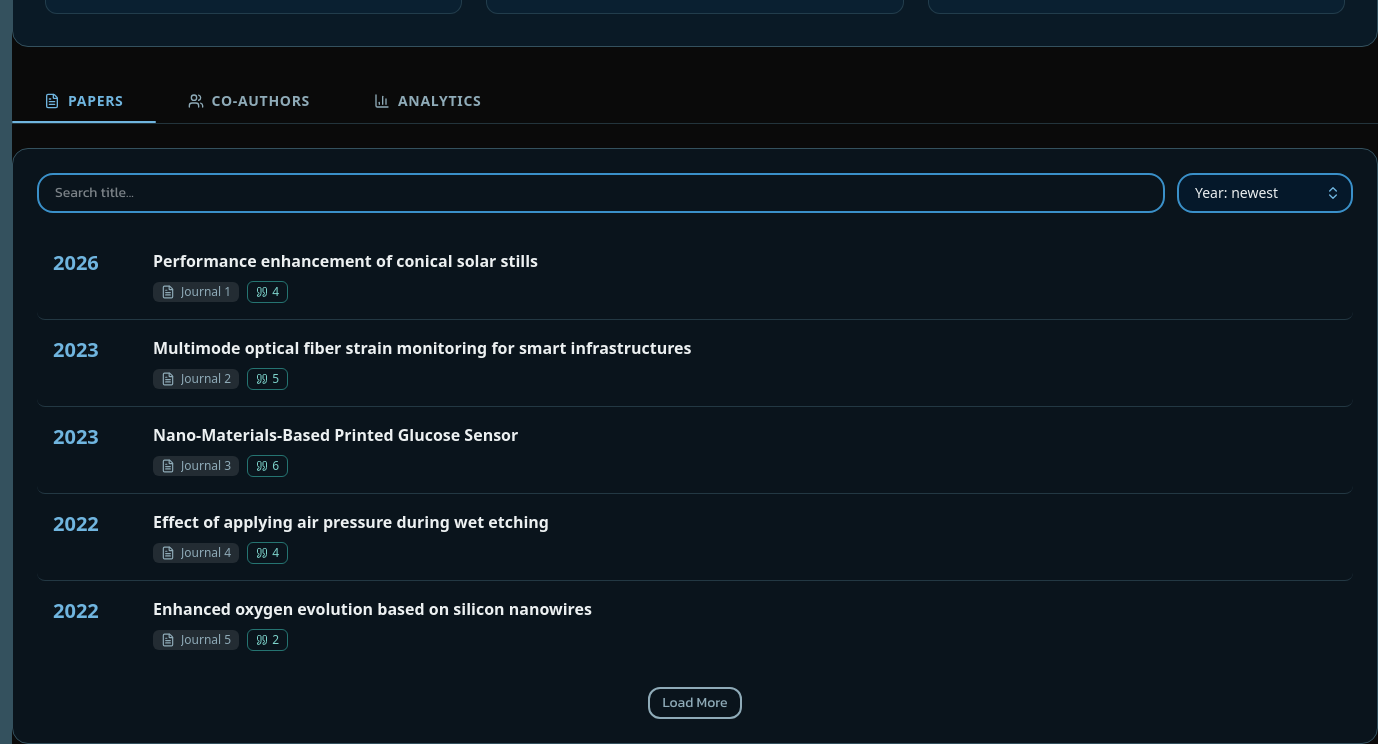
it: Papers tab › lists newest papers first, five at a time, with Load More
(page scrolled)
Step 1. Click the button "Load More" → (695, 703), box [648,687,742,719]
(page scrolled)
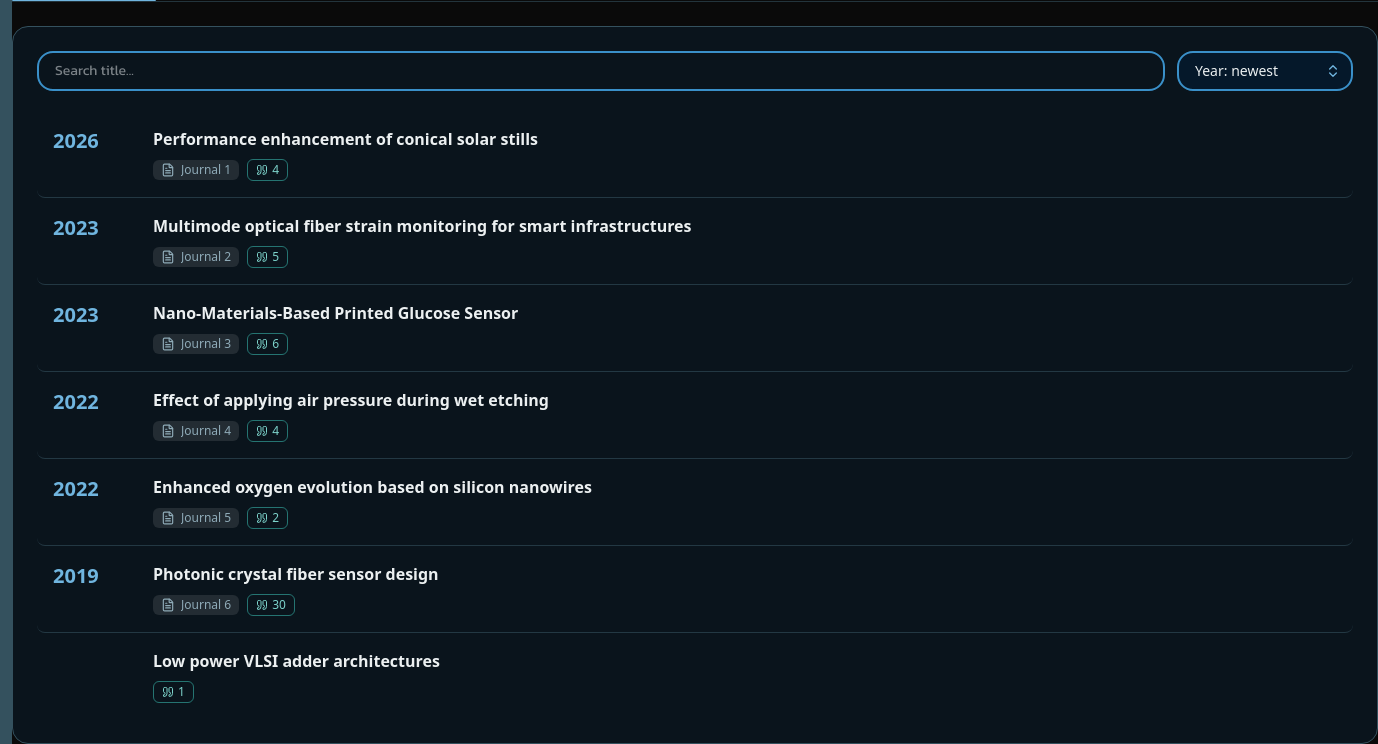
Expected: the link "Low power VLSI adder architectures" is shown, [153,650,440,672]
Expected: the button "Load More" is gone
